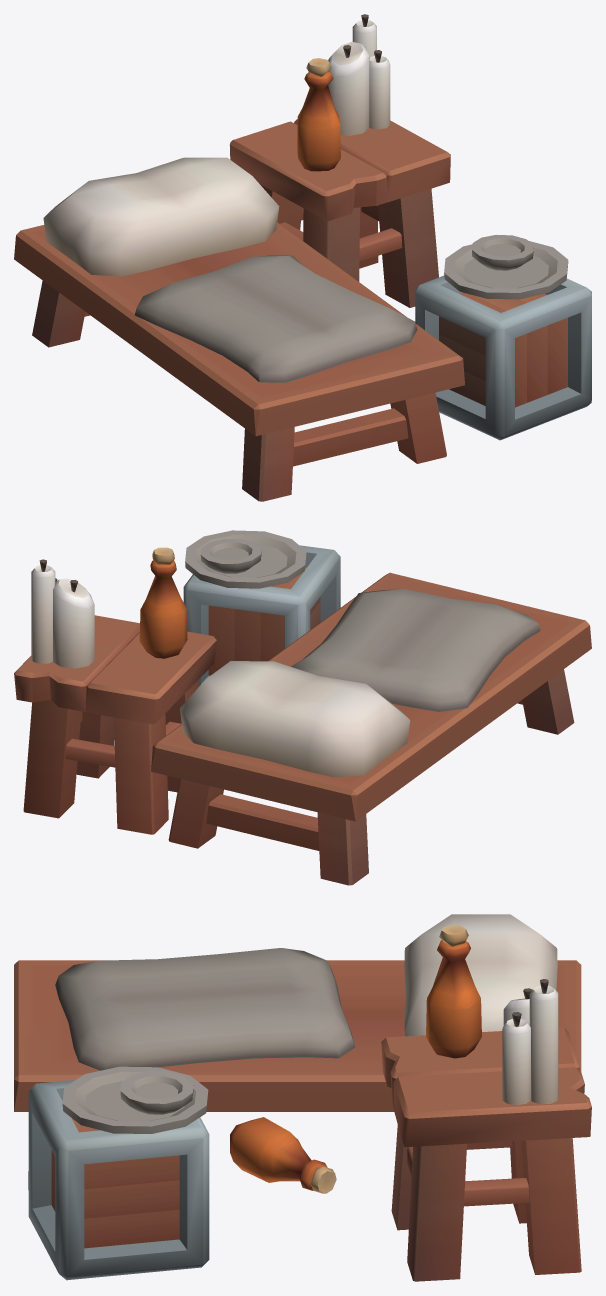
The model's file is kay-cama.gltf.
The picture shows the model from 3 angles, top to bottom: view 1: azimuth 30°, elevation 25°; view 2: azimuth 150°, elevation 25°; view 3: azimuth 270°, elevation 25°; orthographic projection. The views are drawn at different scales.
Visible parts, largest first — view 1: bed_decorated; view 2: bed_decorated; view 3: bed_decorated.
Boxes of the visible parts, bbox=[...] form: bed_decorated: bbox=[14, 14, 591, 501]; bed_decorated: bbox=[14, 530, 591, 885]; bed_decorated: bbox=[14, 914, 591, 1281].
Bounding box in the file's own units: 1.69 × 1.11 × 1.99.
1 material, 1 textured.
